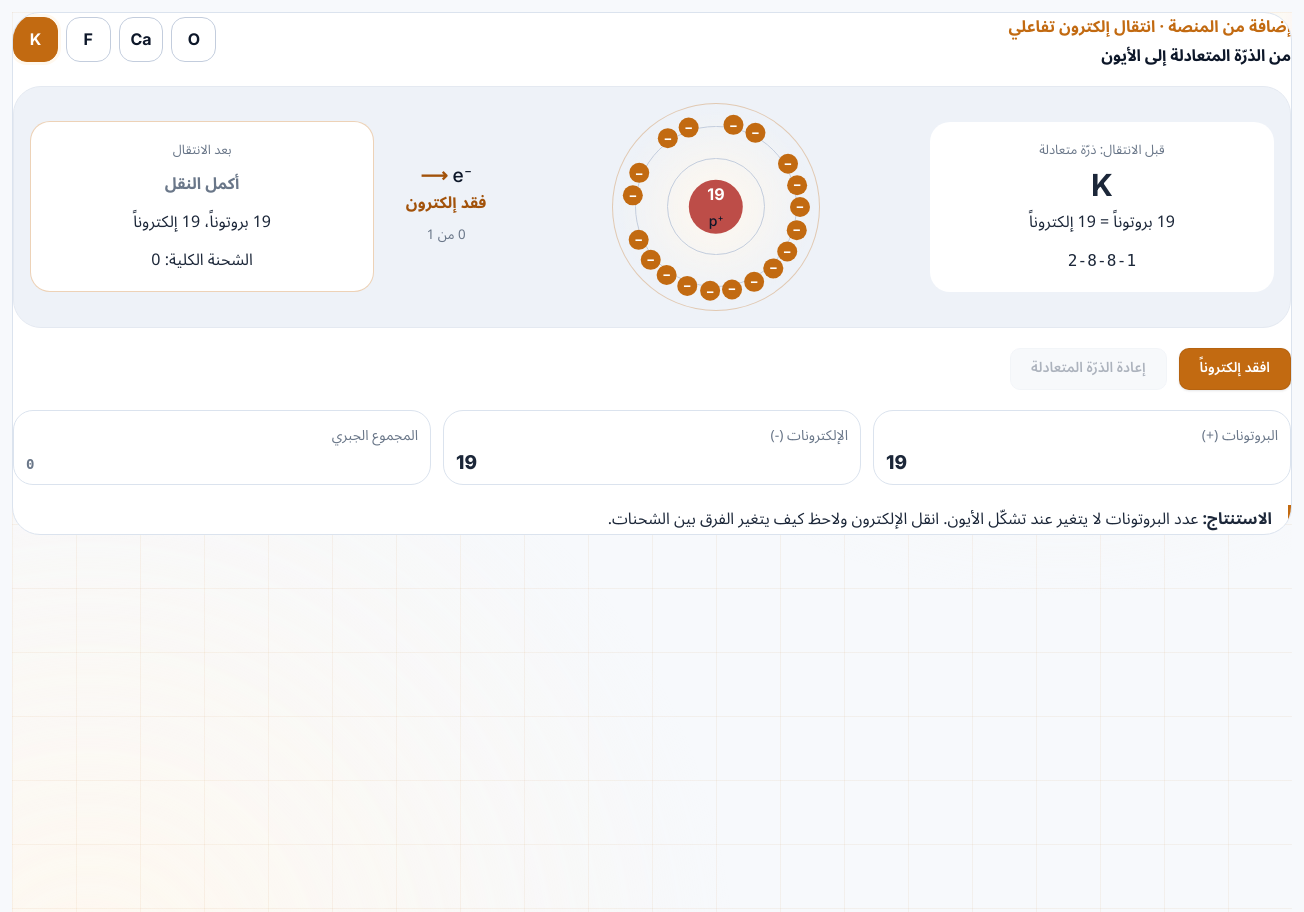
Test: lesson-one explanatory interactives › changes measured charge when an electron is lost or gained
Check: the text "0" next to "الشحنة الكلية:" is shown, box [151,243,161,277]
Click the button "افقد إلكتروناً": (1235, 369) [1178,348,1291,390]
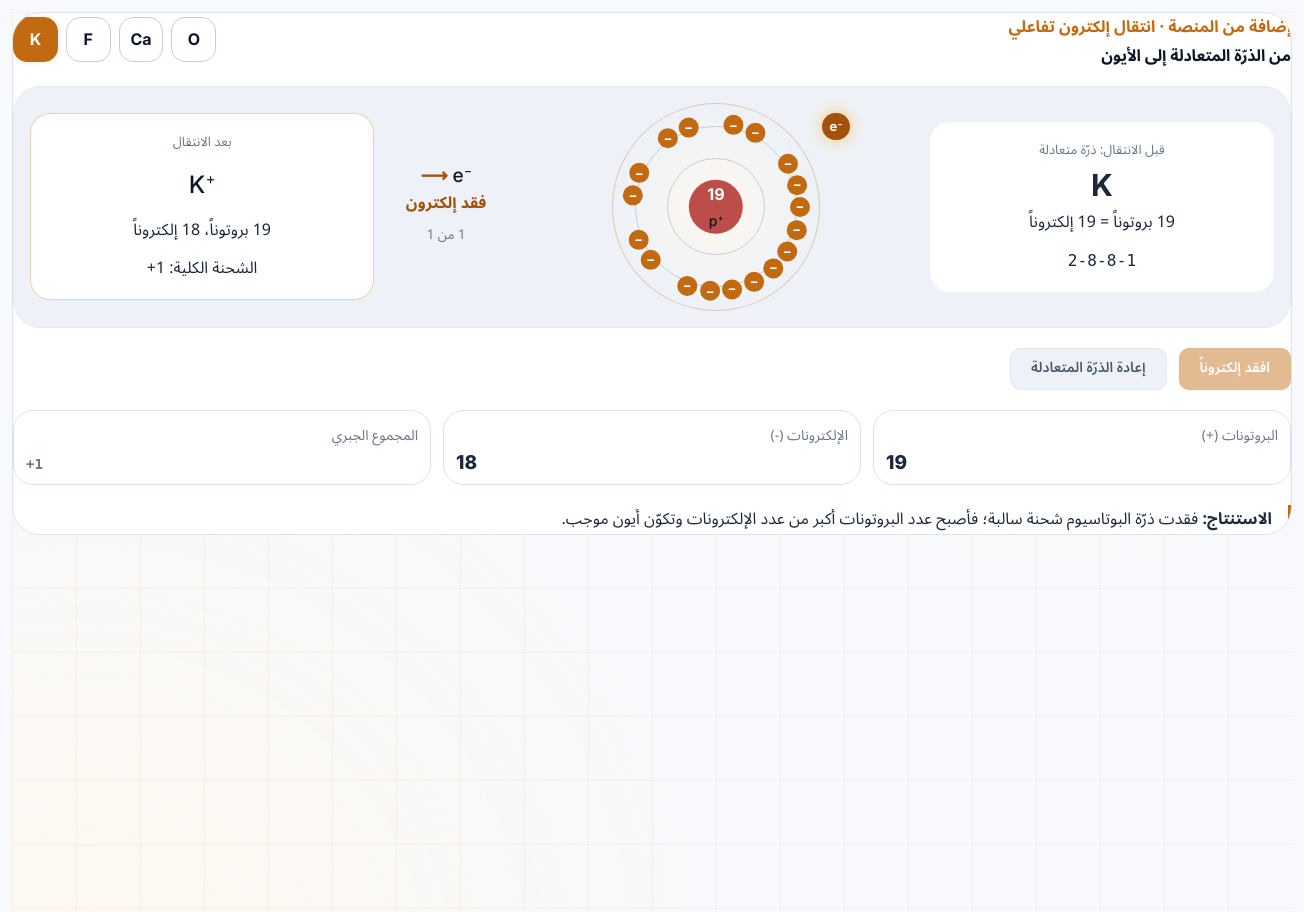
Check: the text "تكوّن أيون موجب" is shown, box [562,502,1198,535]
Check: the text "+1" next to "الشحنة الكلية:" is shown, box [147,250,165,284]
Click the button "F": (88, 39) [66,17,111,62]
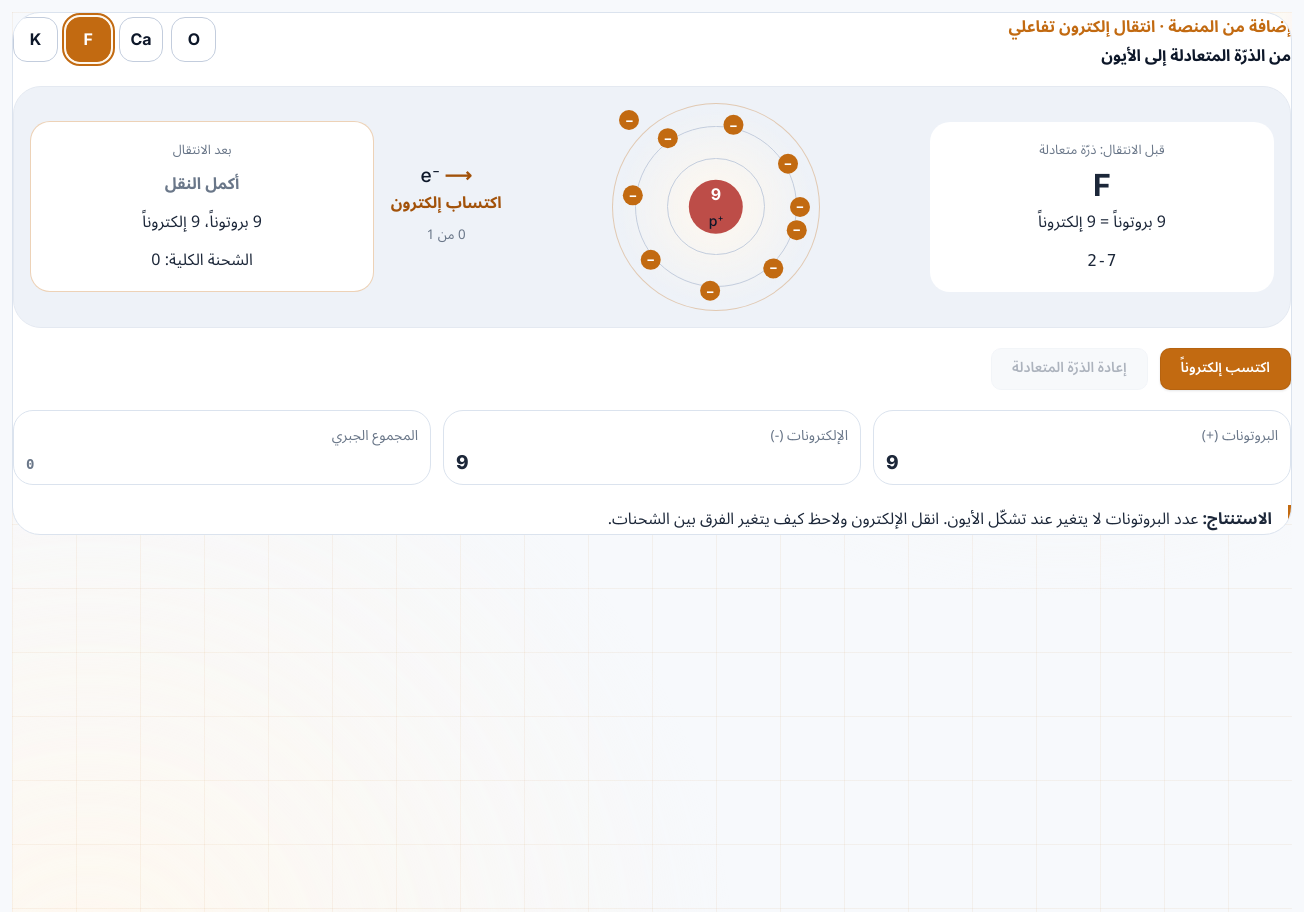
Click the button "اكتسب إلكتروناً": (1225, 369) [1160,348,1291,390]
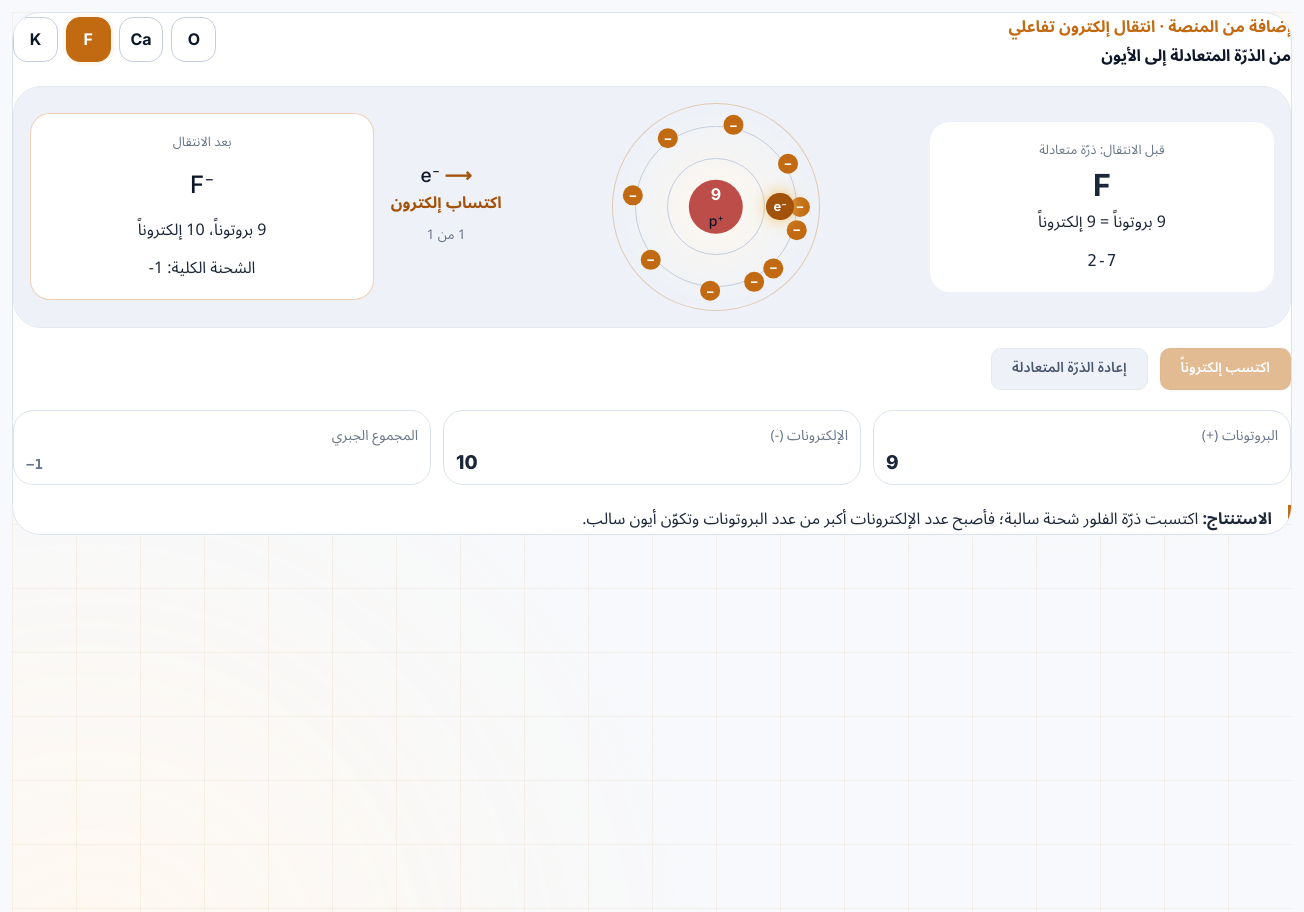
Check: the text "تكوّن أيون سالب" is shown, box [582,502,1198,535]
Check: the text "−1" next to "الشحنة الكلية:" is shown, box [149,250,163,284]
